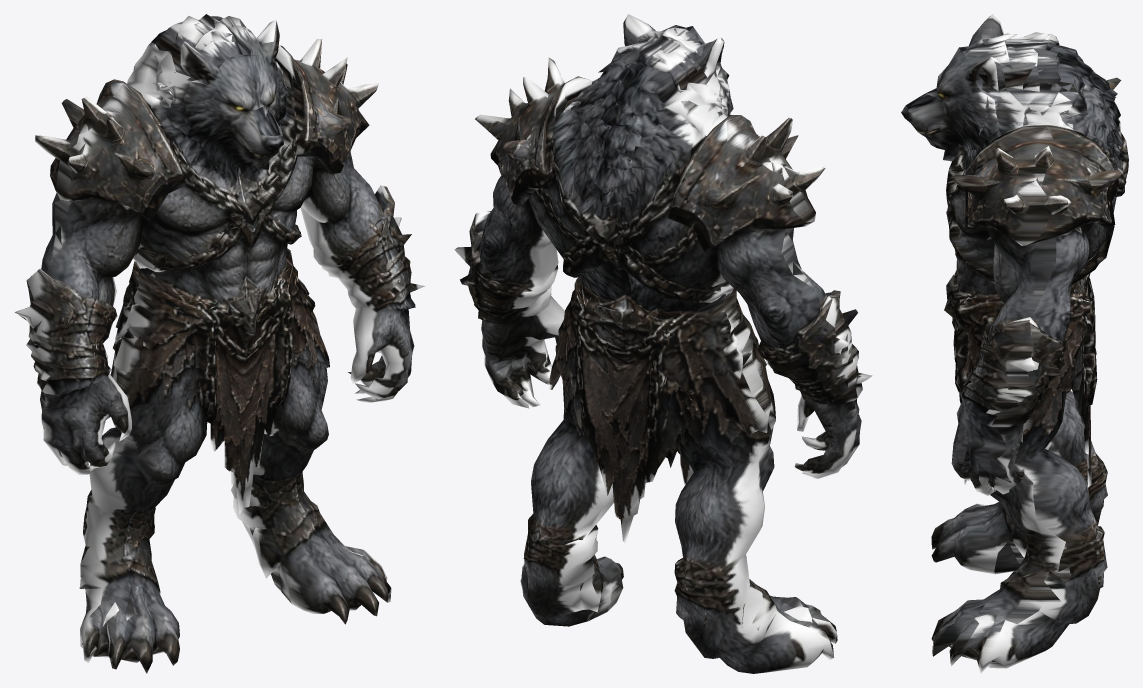
The model's file is wolf.glb.
3 views of the same model, side by side, from view 1: azimuth 30°, elevation 25°; view 2: azimuth 150°, elevation 25°; view 3: azimuth 270°, elevation 25° (orthographic). The views are drawn at different scales.
Visible parts, largest first — view 1: world; view 2: world; view 3: world.
Boxes of the visible parts, bbox=[...] form: world: bbox=[14, 14, 425, 673]; world: bbox=[454, 14, 872, 673]; world: bbox=[901, 14, 1128, 673].
Bounding box in the file's own units: 1.22 × 1.8 × 0.6491.
Materials: 1 (1 with a texture image).
